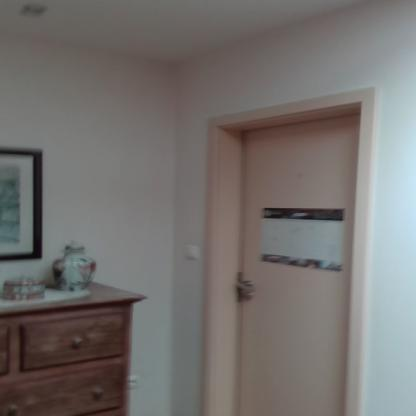door: (240, 127, 352, 416)
lever: (232, 280, 258, 296)
